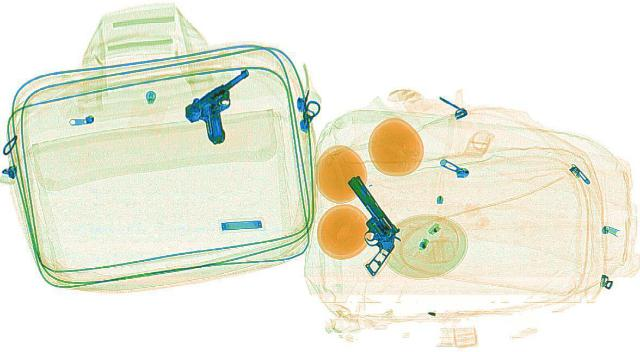Gun: (304, 175, 426, 273), (158, 67, 302, 144)
